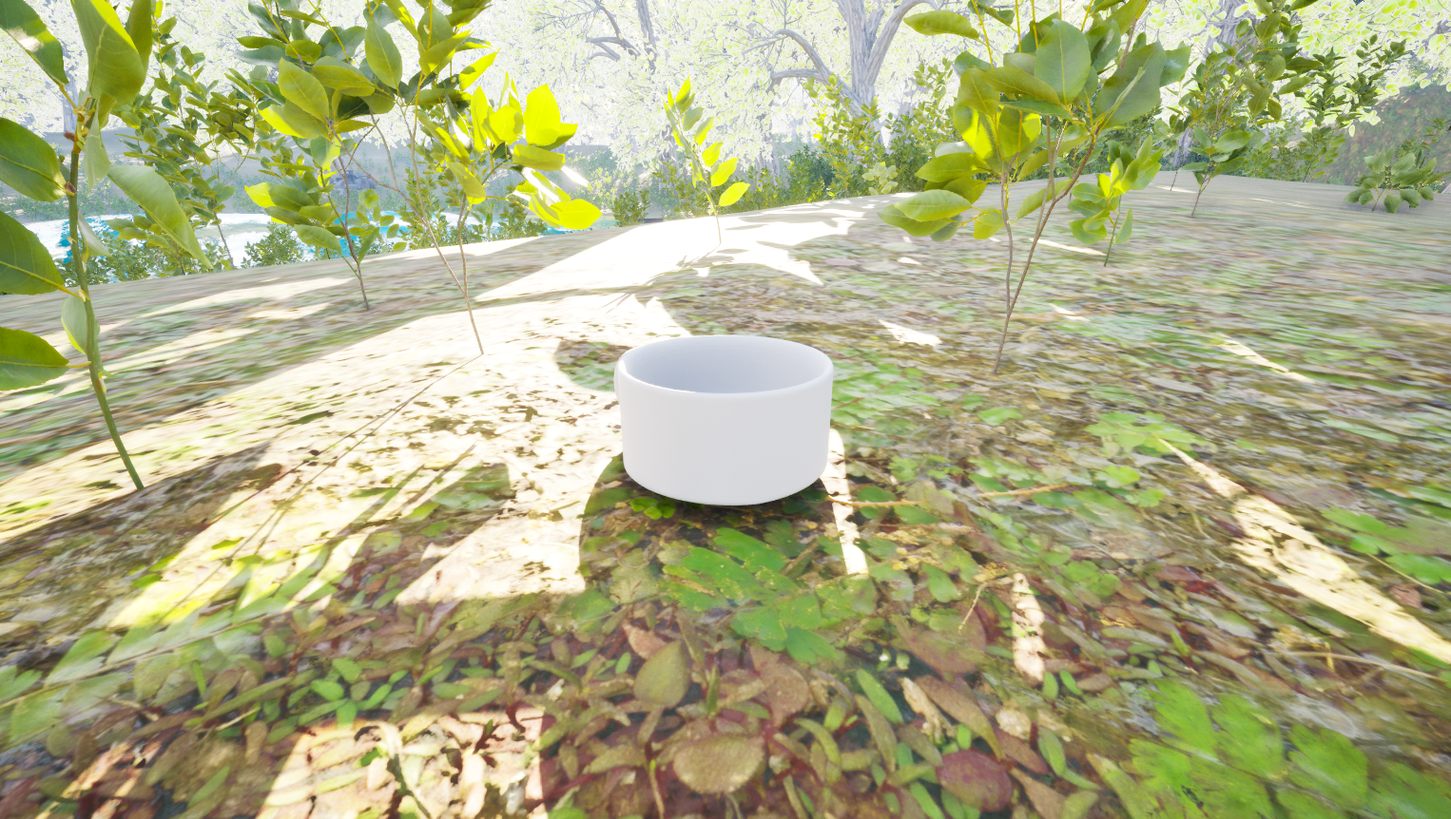Teacup: (605, 324, 874, 522)
